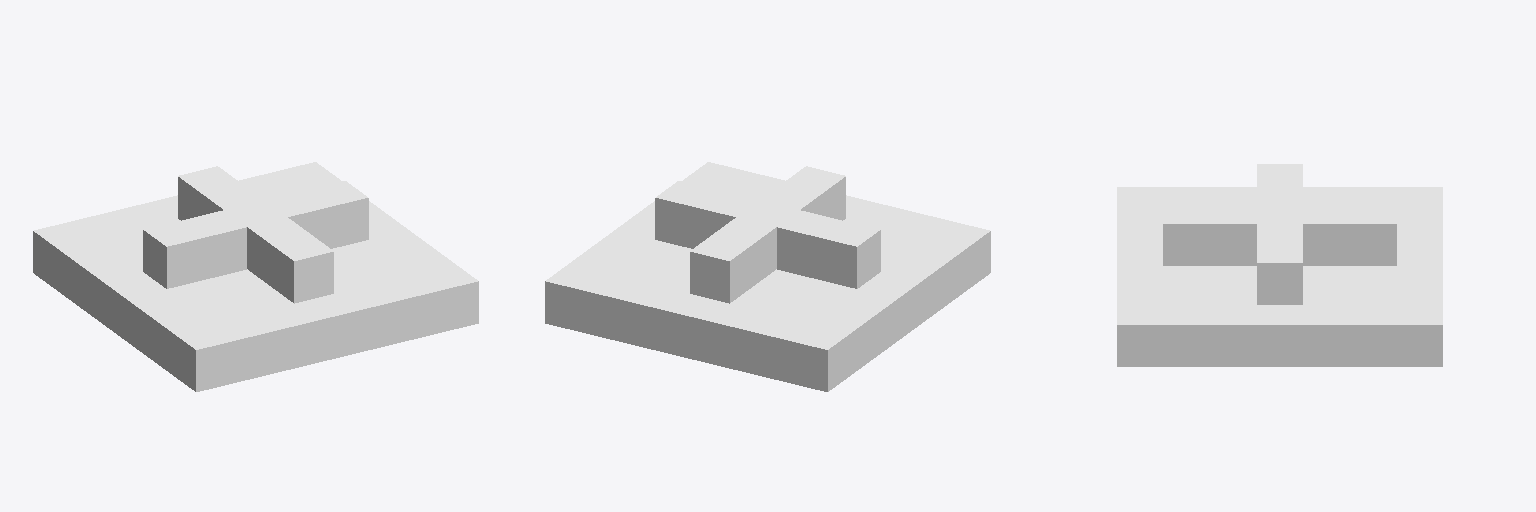
Rendered from buttonShape_showHelpers.obj.
3 views of the same model, side by side, from view 1: azimuth 30°, elevation 25°; view 2: azimuth 150°, elevation 25°; view 3: azimuth 270°, elevation 25° (orthographic).
Size of the model in its own units: 7 by 2 by 7.